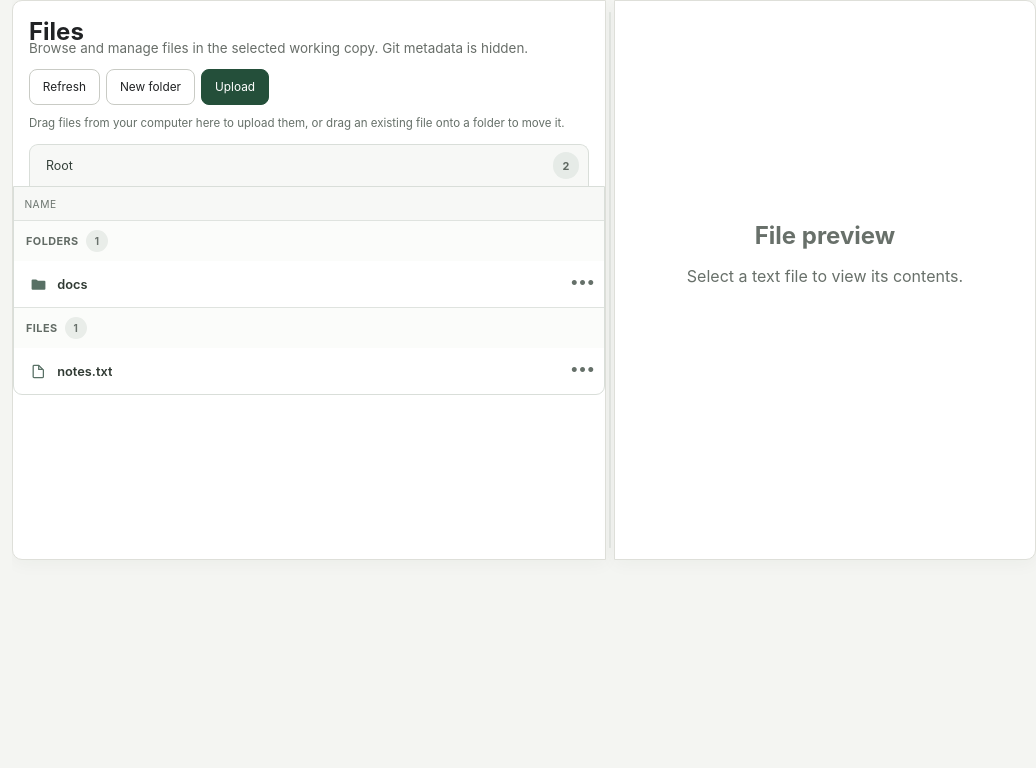
Test: working tree file manager › shows file actions in the preview header and folder actions in a compact row menu
This screenshot has width=1036, height=768.
Click the button "notes.txt": (85, 371) [14,348,562,394]
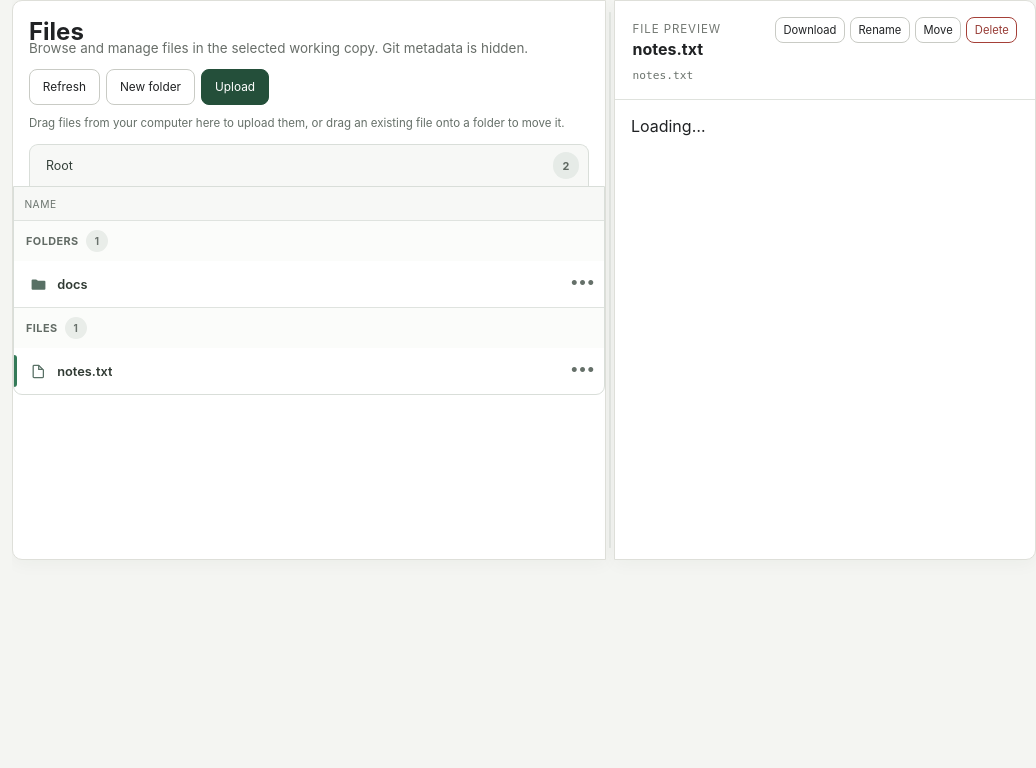
Now the button "Rename" is shown, box [850,17,910,43]
Now the button "Move" is shown, box [915,17,961,43]
Now the button "Delete" is shown, box [966,17,1018,43]
Click the button named "More actions for docs": (583, 284) [568,269,598,299]
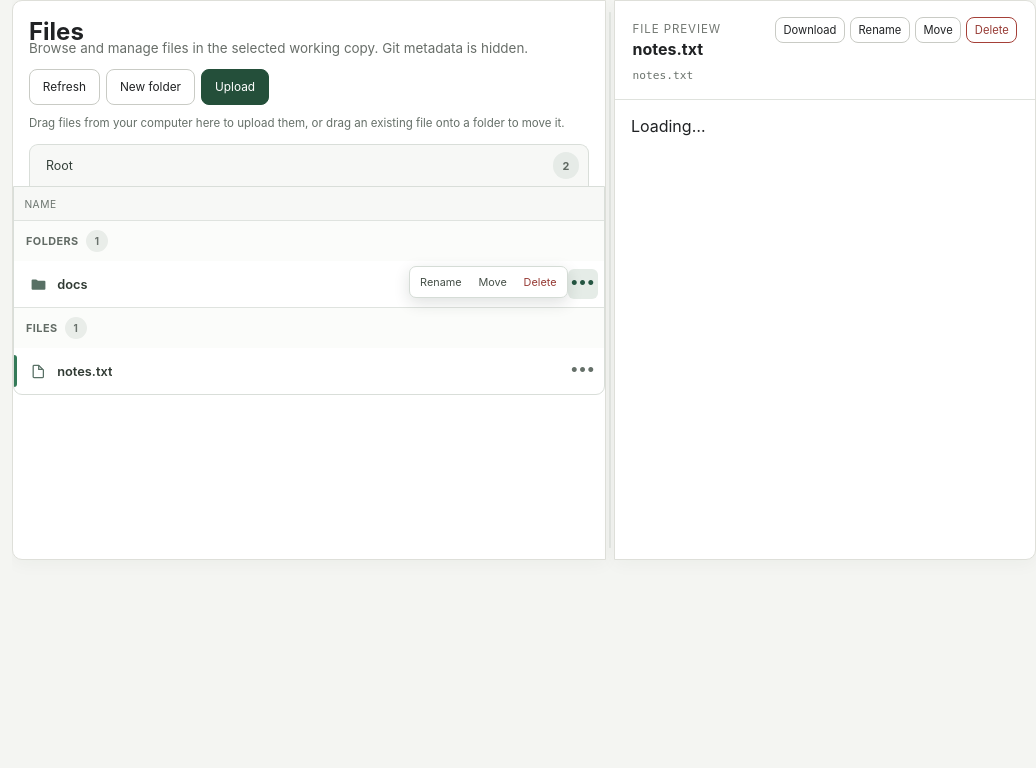
Now the menu is shown, box [409,266,568,298]
Now the menu item "Rename" is shown, box [413,270,469,294]
Press Escape
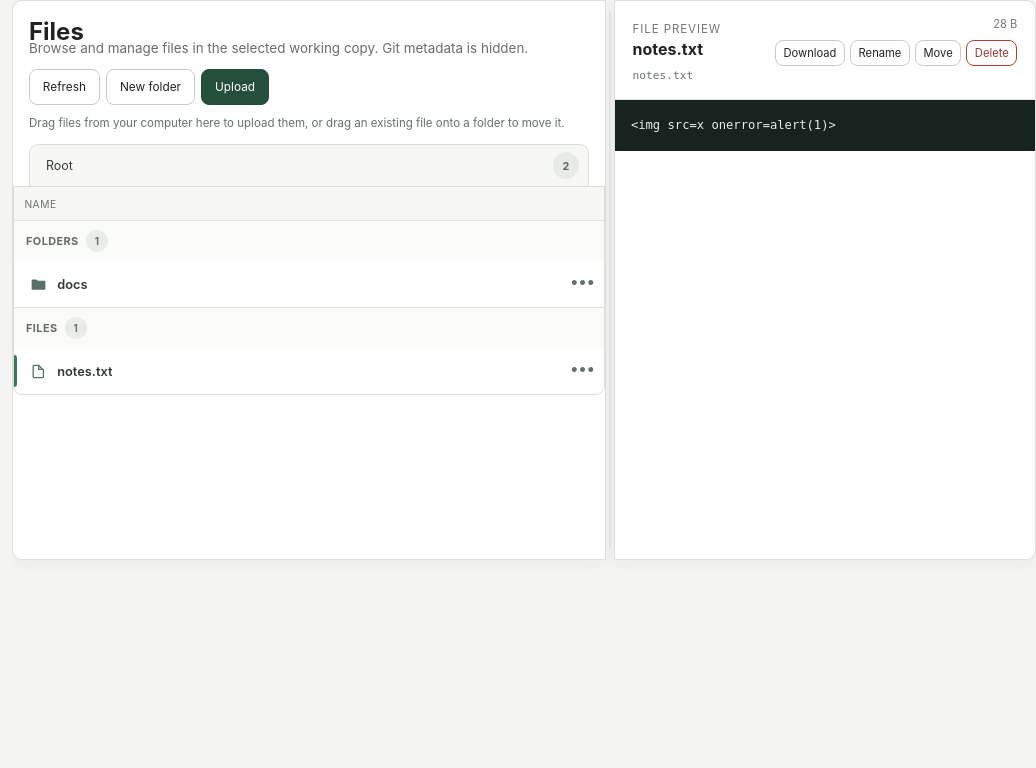
Now the menu is gone
